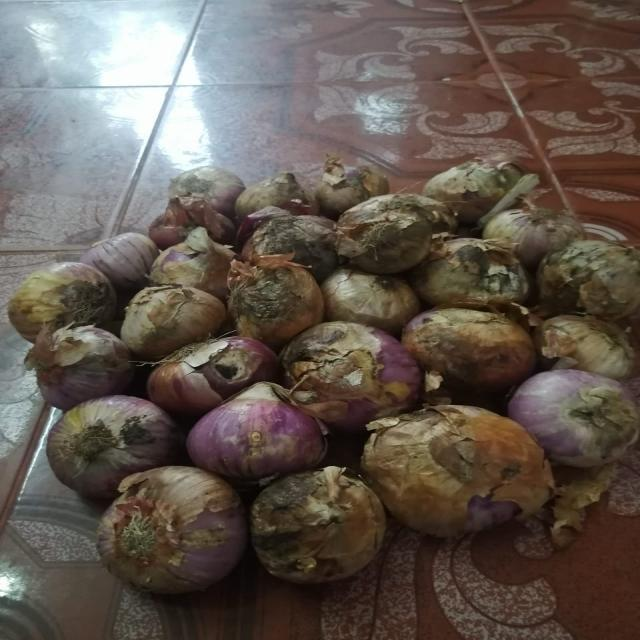rotten: (282, 479, 340, 558), (276, 213, 342, 267), (566, 257, 634, 309), (176, 348, 264, 386), (460, 240, 510, 290), (91, 421, 164, 452), (247, 278, 283, 326)
